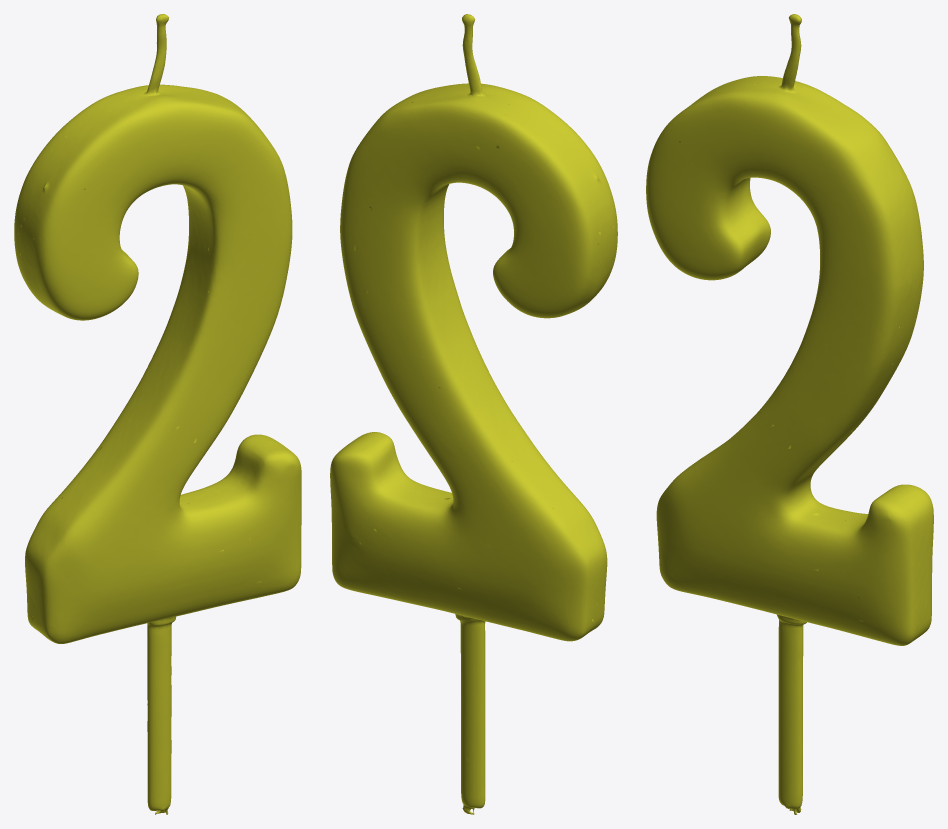
The model's file is number2.glb.
3 views of the same model, side by side, from view 1: azimuth 30°, elevation 25°; view 2: azimuth 150°, elevation 25°; view 3: azimuth 330°, elevation 25° (orthographic).
Visible parts, largest first — view 1: Mesh1.0; view 2: Mesh1.0; view 3: Mesh1.0.
Part boxes in pixels (box(x1,y1,x2,y2)): Mesh1.0: box(14, 14, 301, 814); Mesh1.0: box(330, 14, 617, 814); Mesh1.0: box(646, 14, 933, 814).
Size of the model in its own units: 0.3346 by 0.9573 by 0.0833.
